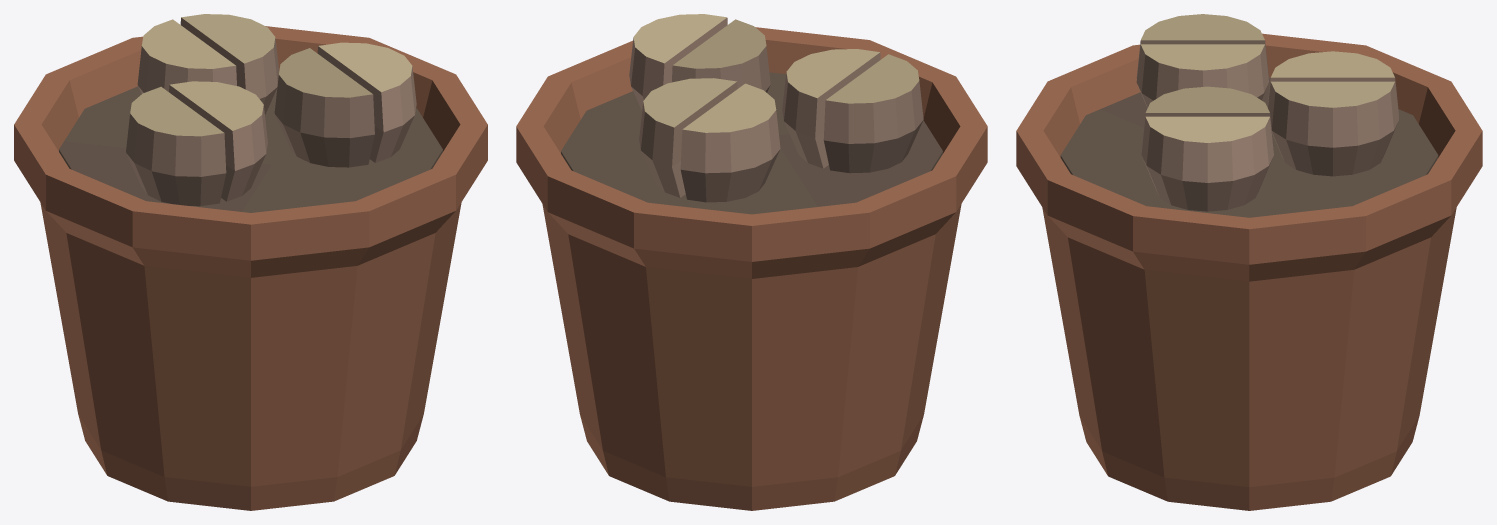
File: new-aucampiae.glb
3 views of the same model, side by side, from view 1: azimuth 30°, elevation 25°; view 2: azimuth 150°, elevation 25°; view 3: azimuth 270°, elevation 25° (orthographic).
Visible parts, largest first — view 1: new-aucampiae/review-terra-vessel, new-aucampiae/review-rooted-soil, new-aucampiae/fused-leaf-half-real-cleft-003, new-aucampiae/fused-leaf-half-real-cleft-001, new-aucampiae/fused-leaf-half-real-cleft-004, new-aucampiae/fused-leaf-half-real-cleft-002, new-aucampiae/fused-leaf-half-real-cleft-006, new-aucampiae/fused-leaf-half-real-cleft-005; view 2: new-aucampiae/review-terra-vessel, new-aucampiae/review-rooted-soil, new-aucampiae/fused-leaf-half-real-cleft-005, new-aucampiae/fused-leaf-half-real-cleft-001, new-aucampiae/fused-leaf-half-real-cleft-006, new-aucampiae/fused-leaf-half-real-cleft-002, new-aucampiae/fused-leaf-half-real-cleft-004, new-aucampiae/fused-leaf-half-real-cleft-003; view 3: new-aucampiae/review-terra-vessel, new-aucampiae/review-rooted-soil, new-aucampiae/fused-leaf-half-real-cleft-004, new-aucampiae/fused-leaf-half-real-cleft-006, new-aucampiae/fused-leaf-half-real-cleft-002, new-aucampiae/fused-leaf-half-real-cleft-001, new-aucampiae/fused-leaf-half-real-cleft-005, new-aucampiae/fused-leaf-half-real-cleft-003.
Part boxes in pixels (x1,y1,x2,y2): new-aucampiae/review-terra-vessel: (14,26,487,510); new-aucampiae/review-rooted-soil: (59,86,442,212); new-aucampiae/fused-leaf-half-real-cleft-003: (274,48,374,167); new-aucampiae/fused-leaf-half-real-cleft-001: (126,87,226,206); new-aucampiae/fused-leaf-half-real-cleft-004: (317,42,416,162); new-aucampiae/fused-leaf-half-real-cleft-002: (169,81,267,201); new-aucampiae/fused-leaf-half-real-cleft-006: (180,14,279,114); new-aucampiae/fused-leaf-half-real-cleft-005: (137,19,236,93); new-aucampiae/review-terra-vessel: (516,27,987,510); new-aucampiae/review-rooted-soil: (561,72,942,214); new-aucampiae/fused-leaf-half-real-cleft-005: (680,83,780,202); new-aucampiae/fused-leaf-half-real-cleft-001: (823,54,923,173); new-aucampiae/fused-leaf-half-real-cleft-006: (639,78,737,197); new-aucampiae/fused-leaf-half-real-cleft-002: (782,49,880,168); new-aucampiae/fused-leaf-half-real-cleft-004: (629,14,727,110); new-aucampiae/fused-leaf-half-real-cleft-003: (672,19,770,92); new-aucampiae/review-terra-vessel: (1016,33,1482,510); new-aucampiae/review-rooted-soil: (1060,77,1438,217); new-aucampiae/fused-leaf-half-real-cleft-004: (1141,116,1273,211); new-aucampiae/fused-leaf-half-real-cleft-006: (1268,81,1398,176); new-aucampiae/fused-leaf-half-real-cleft-002: (1136,44,1268,107); new-aucampiae/fused-leaf-half-real-cleft-001: (1136,14,1268,78); new-aucampiae/fused-leaf-half-real-cleft-005: (1267,51,1398,115); new-aucampiae/fused-leaf-half-real-cleft-003: (1141,86,1273,151).
Size of the model in its own units: 0.19 by 0.163 by 0.19.
4 materials, 4 textured.
